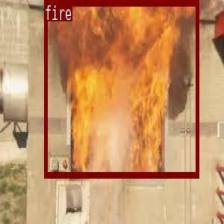fire: (44, 0, 198, 176)
